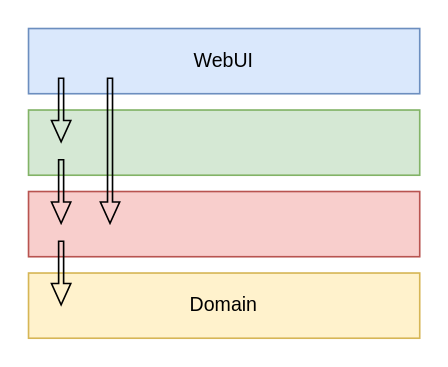
Some shapes in this 448 by 367 pixel diagram are drawn without their labels. Here are the shapes that lost their labels. From the top down, the box of each, then its label:
(27, 108, 420, 175): Infrastructure
(27, 190, 420, 257): Application
